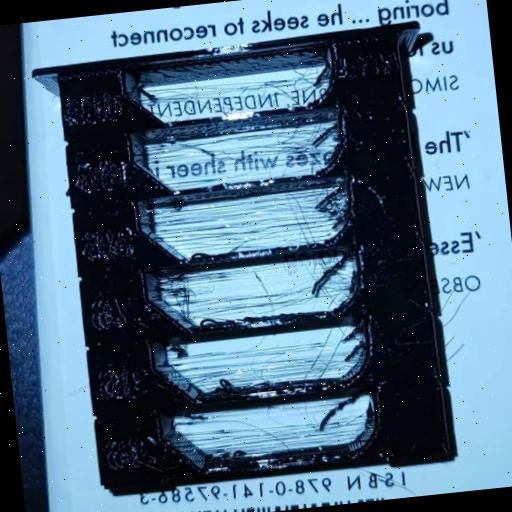stringing: (148, 320, 376, 406), (158, 391, 388, 474), (143, 250, 367, 334), (133, 184, 355, 268)
